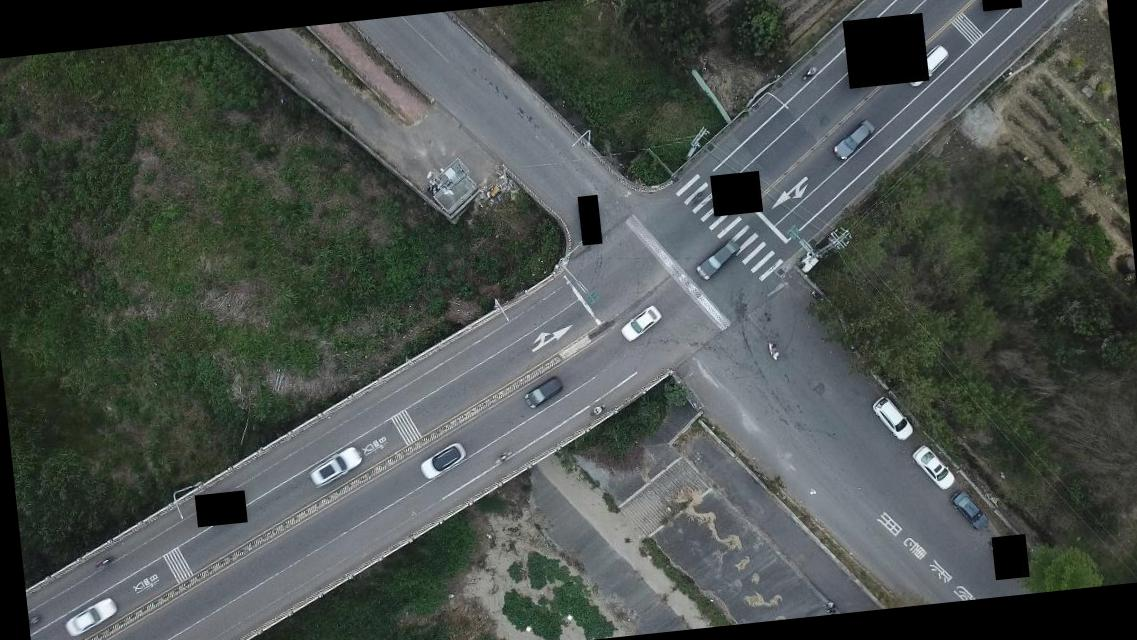vehicle: (306, 444, 365, 487), (692, 236, 744, 282), (911, 440, 957, 492), (63, 596, 119, 636), (903, 42, 952, 87), (872, 392, 916, 442), (831, 119, 879, 161), (948, 485, 990, 533), (419, 442, 468, 482), (618, 302, 664, 342), (522, 372, 566, 409)
